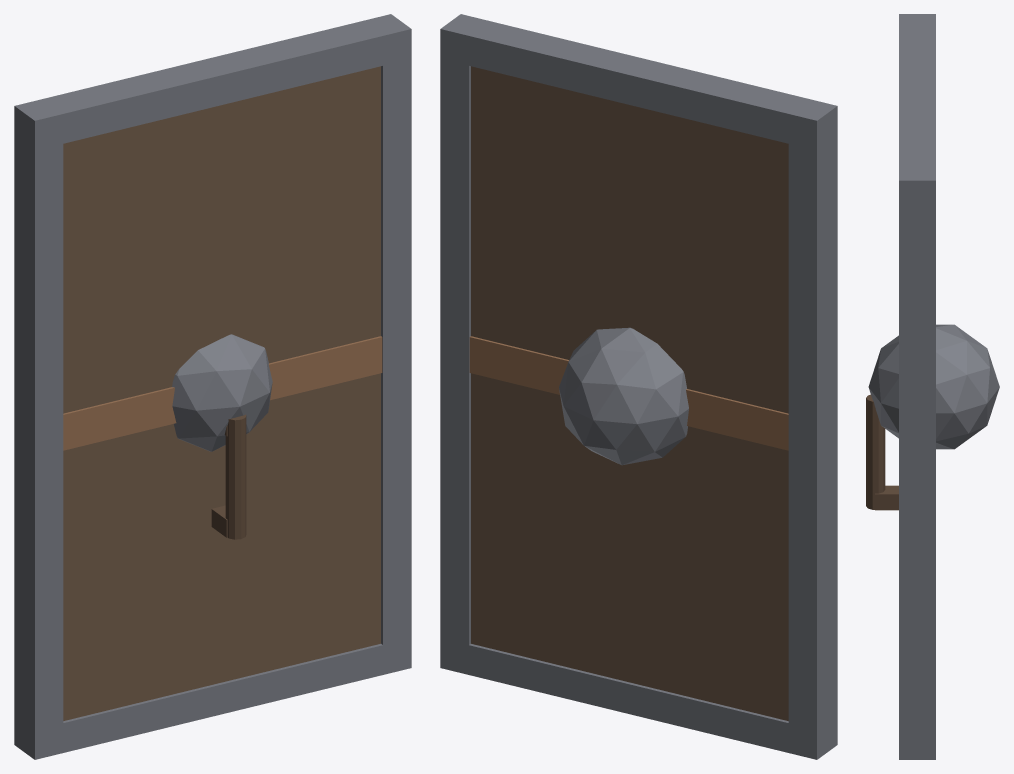
Rendered from tower_shield.glb.
3 views of the same model, side by side, from view 1: azimuth 30°, elevation 25°; view 2: azimuth 150°, elevation 25°; view 3: azimuth 270°, elevation 25° (orthographic). The views are drawn at different scales.
Parts seen in each view (by area): view 1: tower_shield; view 2: tower_shield; view 3: tower_shield.
Boxes of the visible parts, bbox=[...] form: tower_shield: bbox=[14, 14, 411, 759]; tower_shield: bbox=[440, 14, 837, 759]; tower_shield: bbox=[866, 14, 999, 759].
Size of the model in its own units: 0.66 by 1.07 by 0.224.
